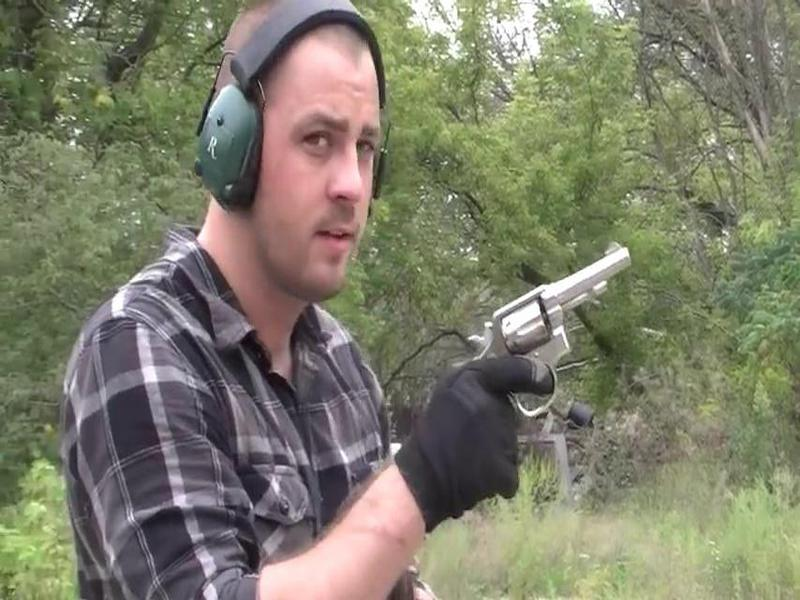Revolver: (447, 230, 645, 418)
